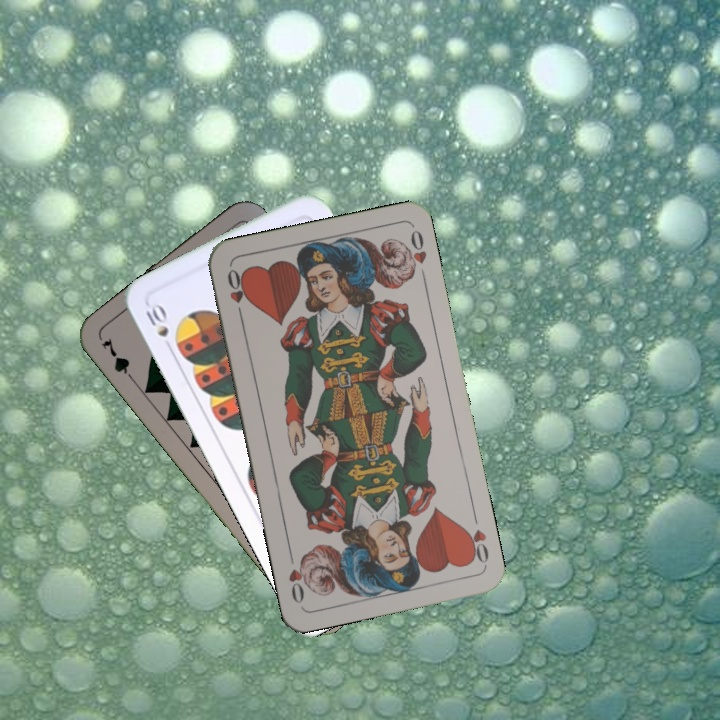G7: (97, 333, 140, 387)
HO: (460, 509, 492, 568), (223, 265, 250, 322)
S10: (141, 299, 176, 355)
